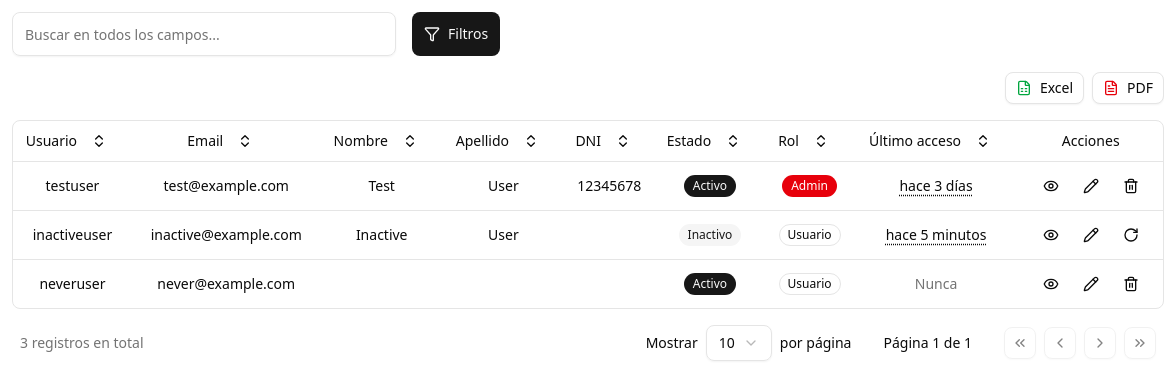
UsersTable › last access › shows a dash for empty dates in the tooltip
Hover over the text "Nunca" at (936, 283), box x1=915 y1=274 x2=957 y2=292
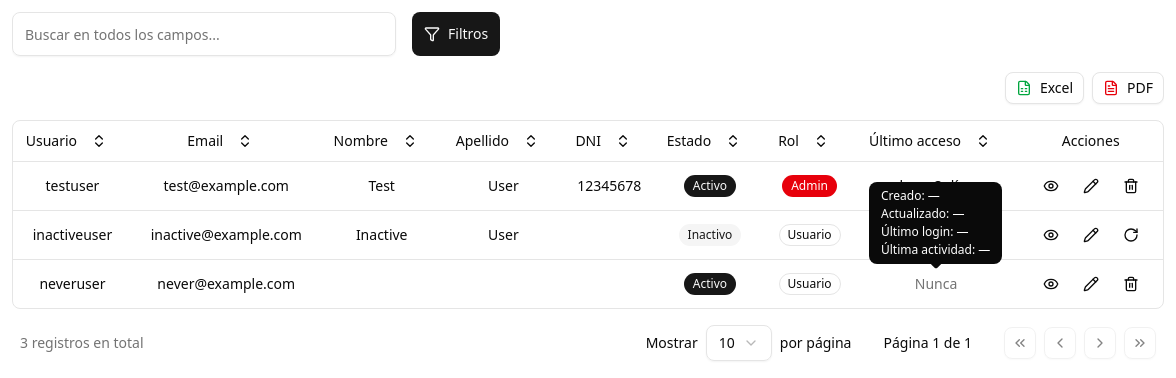
Expected: the tooltip shows "Creado: —", x1=881 y1=187 x2=940 y2=204
Expected: the tooltip shows "Actualizado: —", x1=881 y1=205 x2=964 y2=222
Expected: the tooltip shows "Último login: —", x1=881 y1=223 x2=968 y2=240
